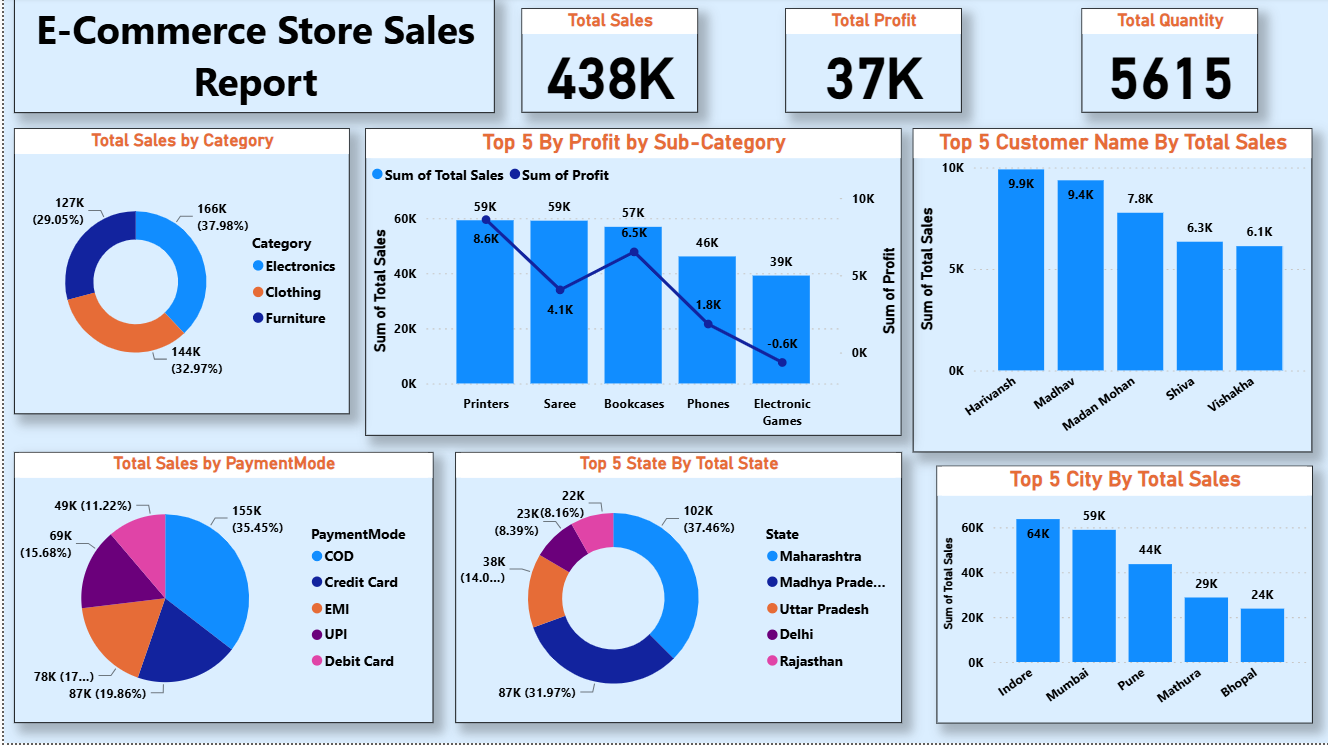

The dashboard page shown, as its layout file describes it:
{"tool":"powerbi","page":{"name":"Page 1","canvas":[1280,720],"ordinal":0},"visuals":[{"type":"textbox","box":[9.5,0,464.3,111.9],"z":0},{"type":"card","title":"Total Sales","fields":{"Values":["Sum(E-Commerce Datasets.Total Sales)"]},"box":[500,10.7,170.2,101.2],"z":1000},{"type":"card","title":"Total Profit","fields":{"Values":["Sum(E-Commerce Datasets.Profit)"]},"box":[753.6,10.7,170.2,101.2],"z":2000},{"type":"card","title":"Total Quantity","fields":{"Values":["Sum(E-Commerce Datasets.Quantity)"]},"box":[1040.5,10.7,170.2,101.2],"z":3000},{"type":"donutChart","title":" Total Sales by Category","fields":{"Category":["E-Commerce Datasets.Category"],"Y":["Sum(E-Commerce Datasets.Total Sales)"]},"box":[9.5,126.2,323.8,276.2],"z":4000},{"type":"lineClusteredColumnComboChart","title":"Top 5 By Profit by Sub-Category","fields":{"Category":["E-Commerce Datasets.Sub-Category"],"Y":["Sum(E-Commerce Datasets.Total Sales)"],"Y2":["Sum(E-Commerce Datasets.Profit)"]},"box":[348.8,126.2,517.9,296.4],"z":5000},{"type":"columnChart","title":"Top 5 Customer Name By Total Sales","fields":{"Category":["E-Commerce Datasets (2).Customer Name"],"Y":["Sum(E-Commerce Datasets.Total Sales)"]},"box":[877.4,126.2,385.7,313.1],"z":6000},{"type":"pieChart","title":"Total Sales by PaymentMode","fields":{"Y":["Sum(E-Commerce Datasets.Total Sales)"],"Category":["E-Commerce Datasets.PaymentMode"]},"box":[9.5,439.3,404.8,261.9],"z":7000},{"type":"donutChart","title":"Top 5 State By Total State","fields":{"Category":["E-Commerce Datasets (2).State"],"Y":["Sum(E-Commerce Datasets.Total Sales)"]},"box":[435.7,439.3,431,261.9],"z":8000},{"type":"columnChart","title":"Top 5 City By Total Sales","fields":{"Category":["E-Commerce Datasets (2).City"],"Y":["Sum(E-Commerce Datasets.Total Sales)"]},"box":[900,452.4,363.1,248.8],"z":9000}]}

Visuals, with their boxes in screenshot pixels (x1, y1, x2, y2), scaled from the page's 1280x720 canvas onto the 1328x745 screenshot:
textbox: 10:0:492:116
"Total Sales" card: 519:11:695:116
"Total Profit" card: 782:11:958:116
"Total Quantity" card: 1080:11:1256:116
" Total Sales by Category" donutChart: 10:131:346:416
"Top 5 By Profit by Sub-Category" lineClusteredColumnComboChart: 362:131:899:437
"Top 5 Customer Name By Total Sales" columnChart: 910:131:1310:455
"Total Sales by PaymentMode" pieChart: 10:455:430:726
"Top 5 State By Total State" donutChart: 452:455:899:726
"Top 5 City By Total Sales" columnChart: 934:468:1310:726
